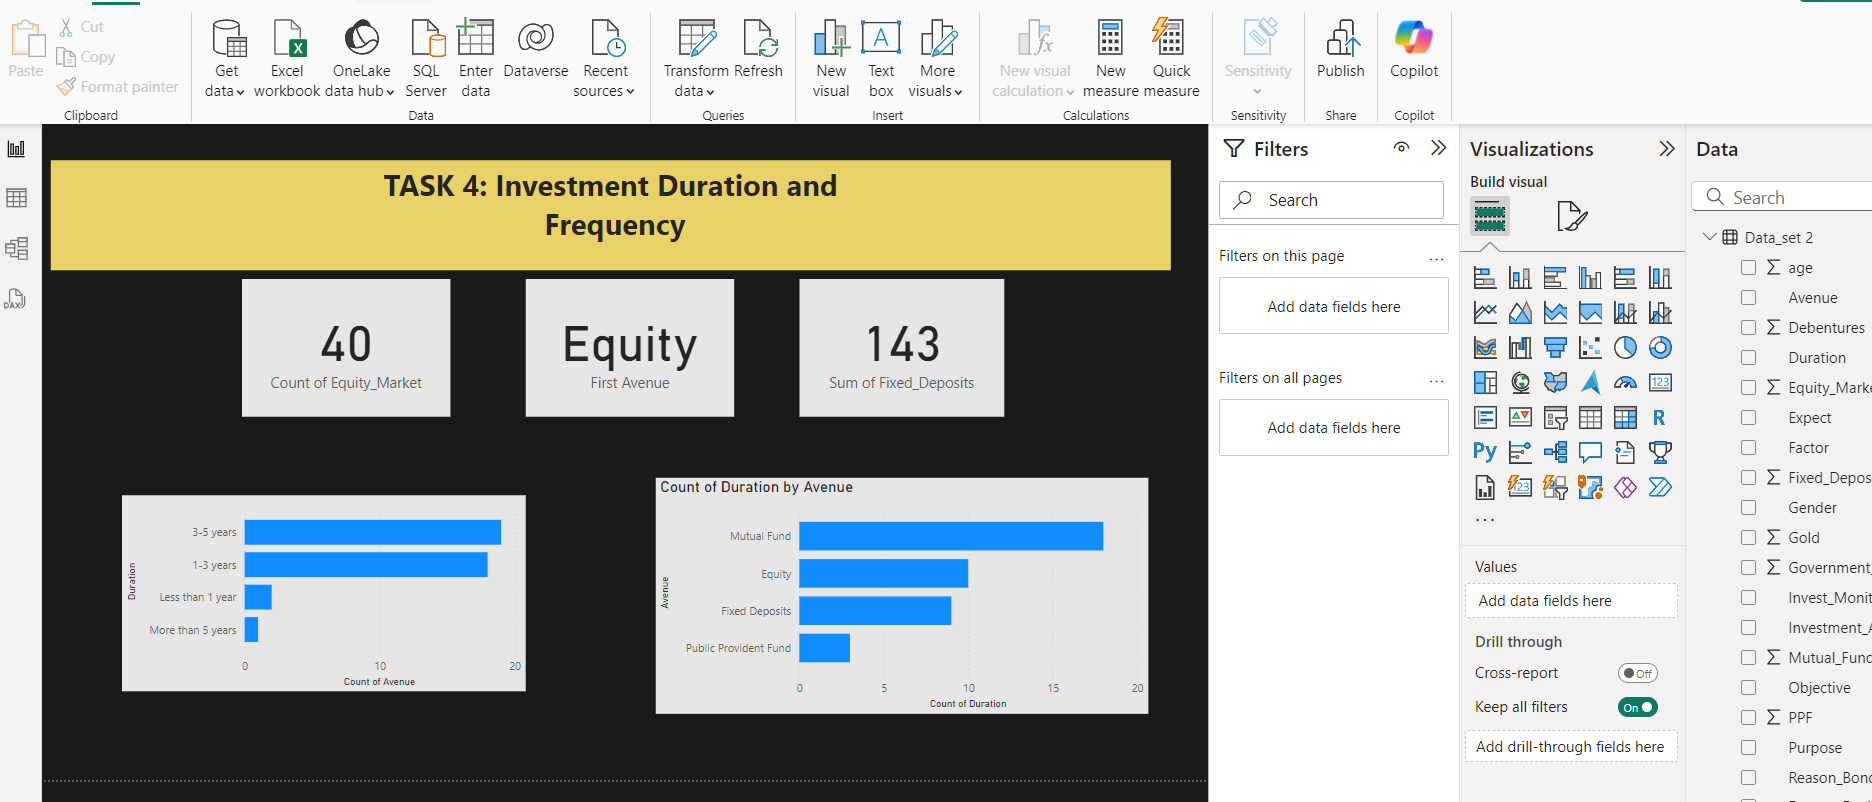

The dashboard page shown, as its layout file describes it:
{"tool":"powerbi","page":{"name":"Page 4","canvas":[1280,720],"ordinal":3},"visuals":[{"type":"textbox","box":[9.6,39.8,1229.5,120.8],"z":0},{"type":"card","fields":{"Values":["CountNonNull(Data_set 2.Equity_Market)"]},"box":[219.6,170.2,229.2,150.9],"z":1000},{"type":"card","fields":{"Values":["Min(Data_set 2.Avenue)"]},"box":[531,170.2,229.2,150.9],"z":2000},{"type":"barChart","fields":{"Category":["Data_set 2.Avenue"],"Y":["CountNonNull(Data_set 2.Duration)"]},"box":[673.8,388.3,540.7,259.3],"z":3000},{"type":"barChart","fields":{"Category":["Data_set 2.Duration"],"Y":["CountNonNull(Data_set 2.Avenue)"]},"box":[87.8,407.5,443.2,215.4],"z":4000},{"type":"card","fields":{"Values":["Sum(Data_set 2.Fixed_Deposits)"]},"box":[831.6,170.2,225,150.9],"z":5000}]}

Visuals, with their boxes on the page's 1280x720 design canvas (x1, y1, x2, y2). These are canvas units, not pixel positions in the 1872x802 screenshot, which may show the page scaled, cropped or inside an application window:
textbox: (10,40,1239,161)
card - CountNonNull(Data_set 2.Equity_Market): (220,170,449,321)
card - Min(Data_set 2.Avenue): (531,170,760,321)
barChart - Data_set 2.Avenue x CountNonNull(Data_set 2.Duration): (674,388,1214,648)
barChart - Data_set 2.Duration x CountNonNull(Data_set 2.Avenue): (88,408,531,623)
card - Sum(Data_set 2.Fixed_Deposits): (832,170,1057,321)
